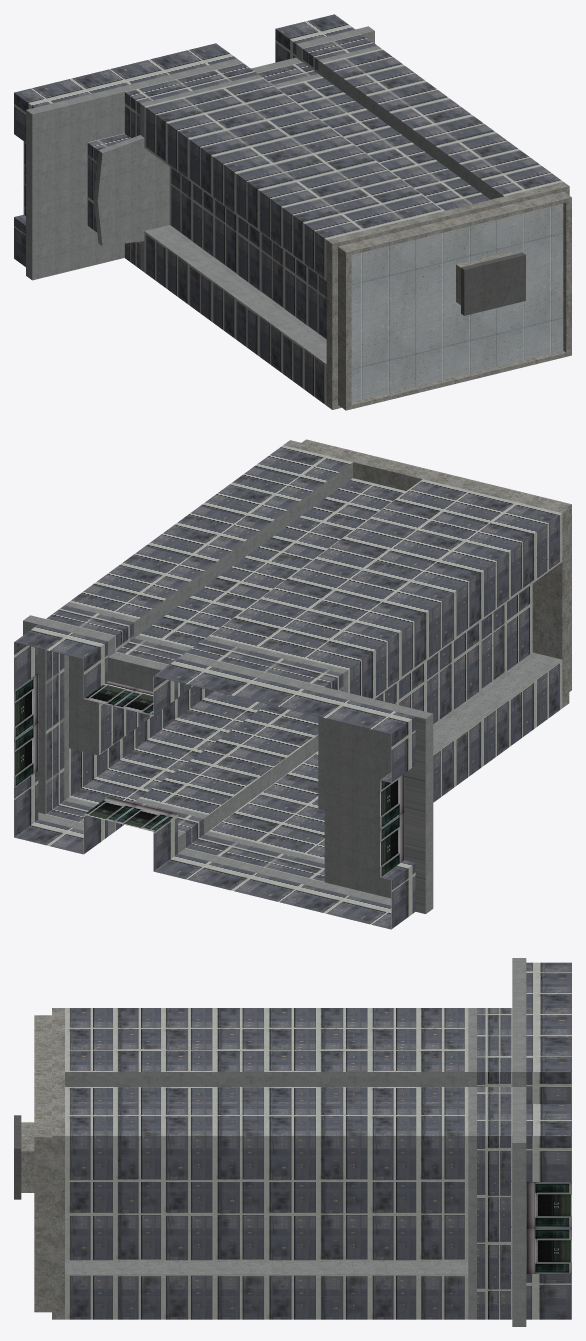
Rendered from skyscraper_windowC_04.obj.
The picture shows the model from 3 angles, top to bottom: view 1: azimuth 30°, elevation 25°; view 2: azimuth 150°, elevation 25°; view 3: azimuth 270°, elevation 25°; orthographic projection. The views are drawn at different scales.
Parts seen in each view (by area): view 1: Object60; view 2: Object60; view 3: Object60.
Boxes of the visible parts, bbox=[...] form: Object60: bbox=[14, 14, 571, 410]; Object60: bbox=[14, 439, 571, 929]; Object60: bbox=[14, 958, 571, 1326].
Size of the model in its own units: 67.76 by 31.37 by 86.35.
6 materials, 6 textured.
